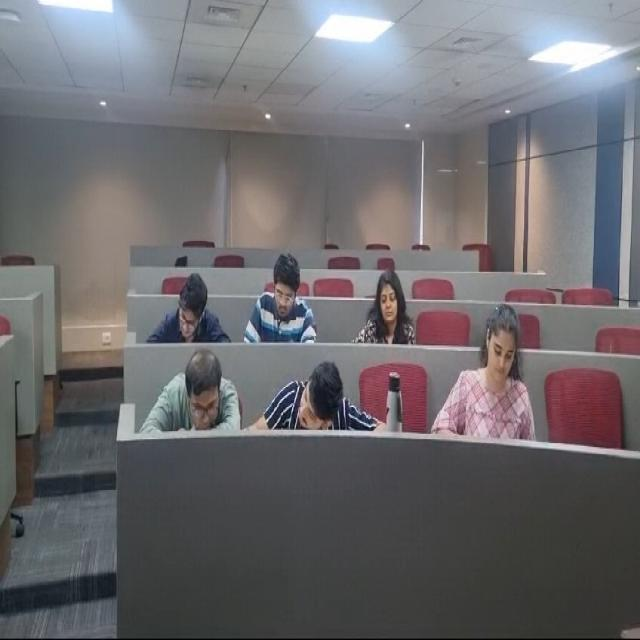cheating: (261, 362, 372, 438), (167, 358, 244, 435)
non-cheating: (245, 235, 322, 351), (466, 309, 538, 398), (357, 263, 422, 355), (156, 272, 232, 348)
